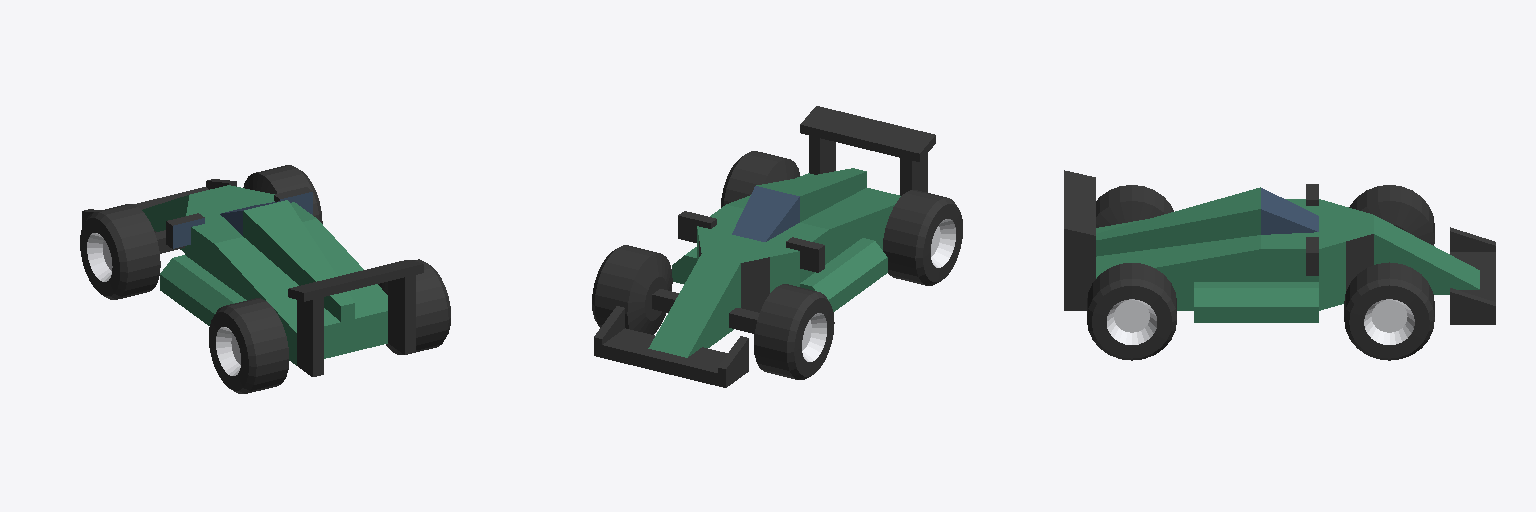
The model's file is raceCarGreen.obj.
3 views of the same model, side by side, from view 1: azimuth 30°, elevation 25°; view 2: azimuth 150°, elevation 25°; view 3: azimuth 270°, elevation 25° (orthographic).
Parts seen in each view (by area): view 1: raceCarGreen; view 2: raceCarGreen; view 3: raceCarGreen.
Part boxes in pixels (x1,y1,x2,y2): raceCarGreen: (80,165,450,393); raceCarGreen: (592,106,962,387); raceCarGreen: (1064,170,1495,360).
Size of the model in its own units: 0.7288 by 0.397 by 1.35.